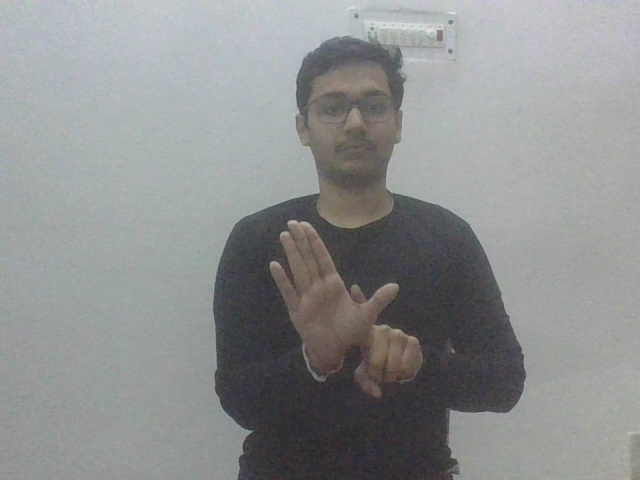Y: (264, 217, 426, 404)
